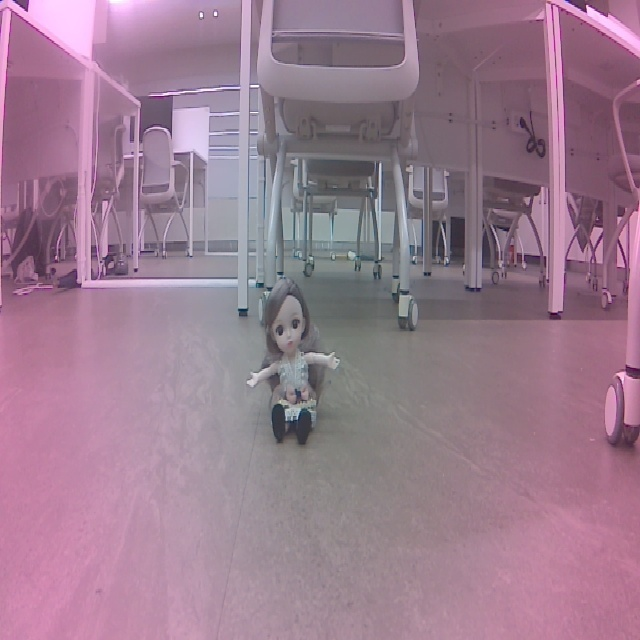장애물: (236, 274, 345, 452)
